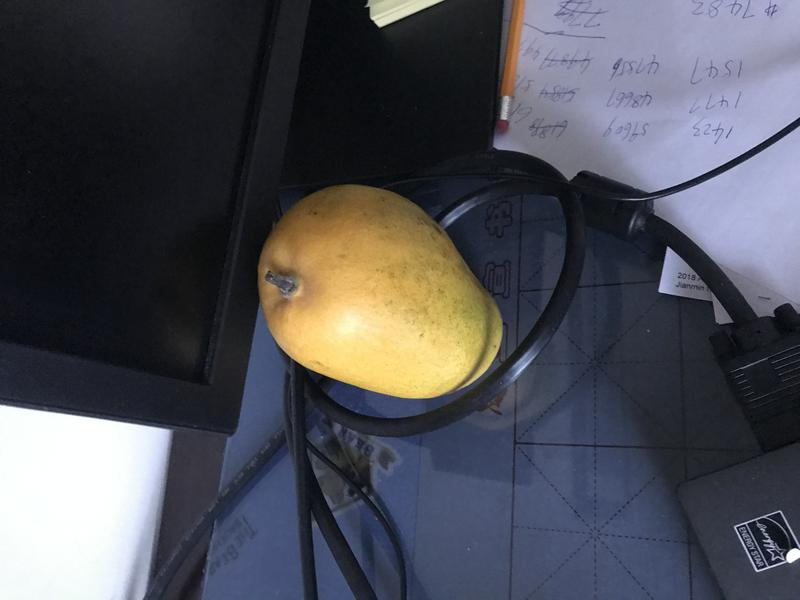mango: (248, 168, 524, 409)
